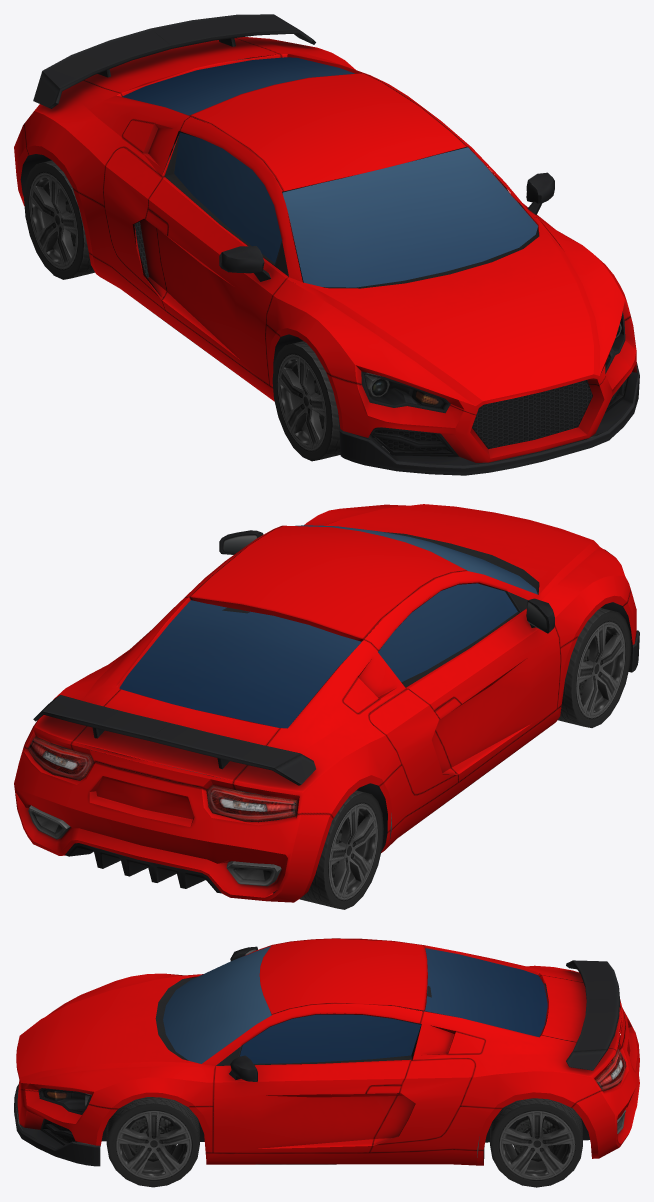
The model's file is VHC0310001.FBX.
3 renders of one model, top to bottom at view 1: azimuth 30°, elevation 25°; view 2: azimuth 150°, elevation 25°; view 3: azimuth 270°, elevation 25°, orthographic. The views are drawn at different scales.
Parts seen in each view (by area): view 1: smVHC0310001; view 2: smVHC0310001; view 3: smVHC0310001.
Part boxes in pixels (left/top/right/bottom): smVHC0310001: left=14, top=14, right=639, bottom=475; smVHC0310001: left=14, top=504, right=639, bottom=909; smVHC0310001: left=14, top=938, right=639, bottom=1187.
Size of the model in its own units: 221 by 138 by 469.
1 material, 1 textured.
